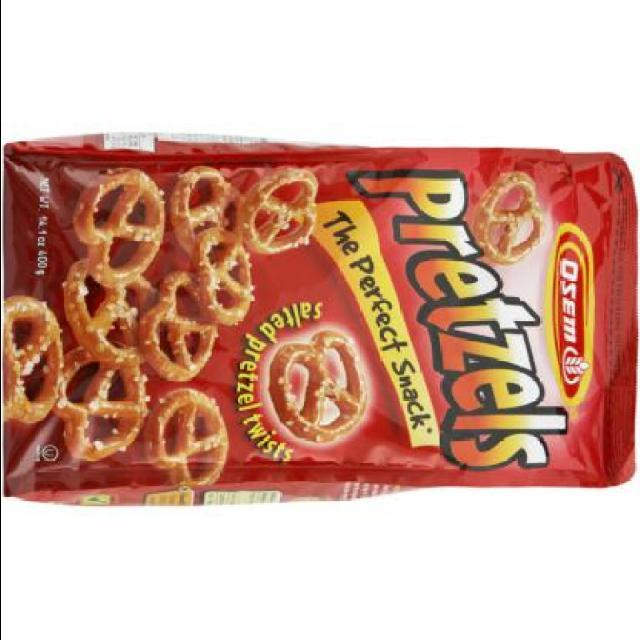Salatini: (0, 147, 638, 511)
